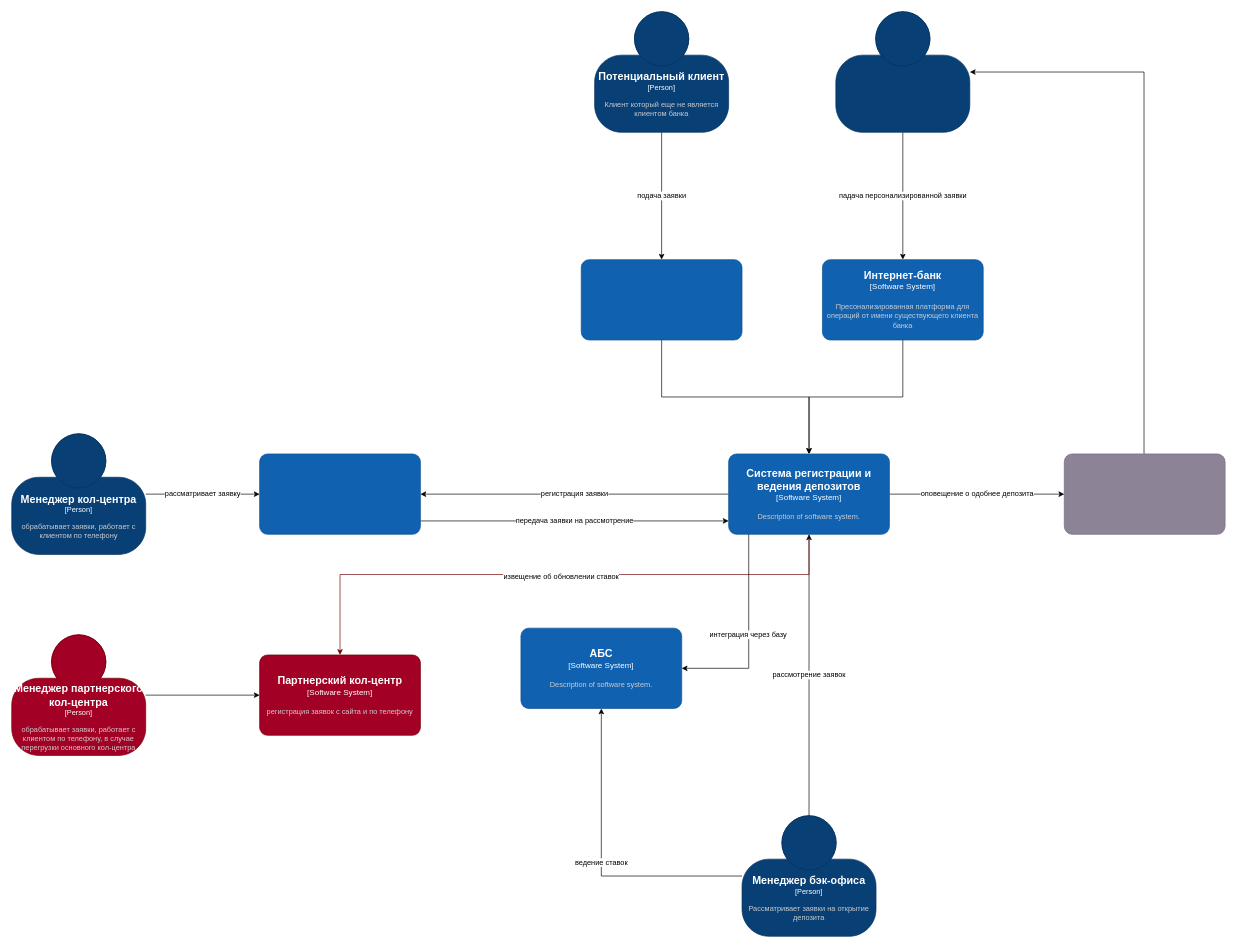
The diagram is 1237 pixels wide and 948 high, and some of its shapes have lost their labels. The shapes that lost their labels are listed below. From the top down, each one's centre as x and y in pixels, then its label:
At (x=902, y=71): "Клиент банка [Person] клиент банка которые прошел верификацию документов".
At (x=661, y=299): "Сайт [Software System] функция в контексте открытия депозитов - маркетинговая".
At (x=339, y=493): "Кол-центр [Software System] регистрация заявок с сайта и по телефону".
At (x=1144, y=493): "СМС-шлюз [Software System] отправка СМС".
